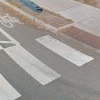crosswalk: (0, 34, 93, 100)
